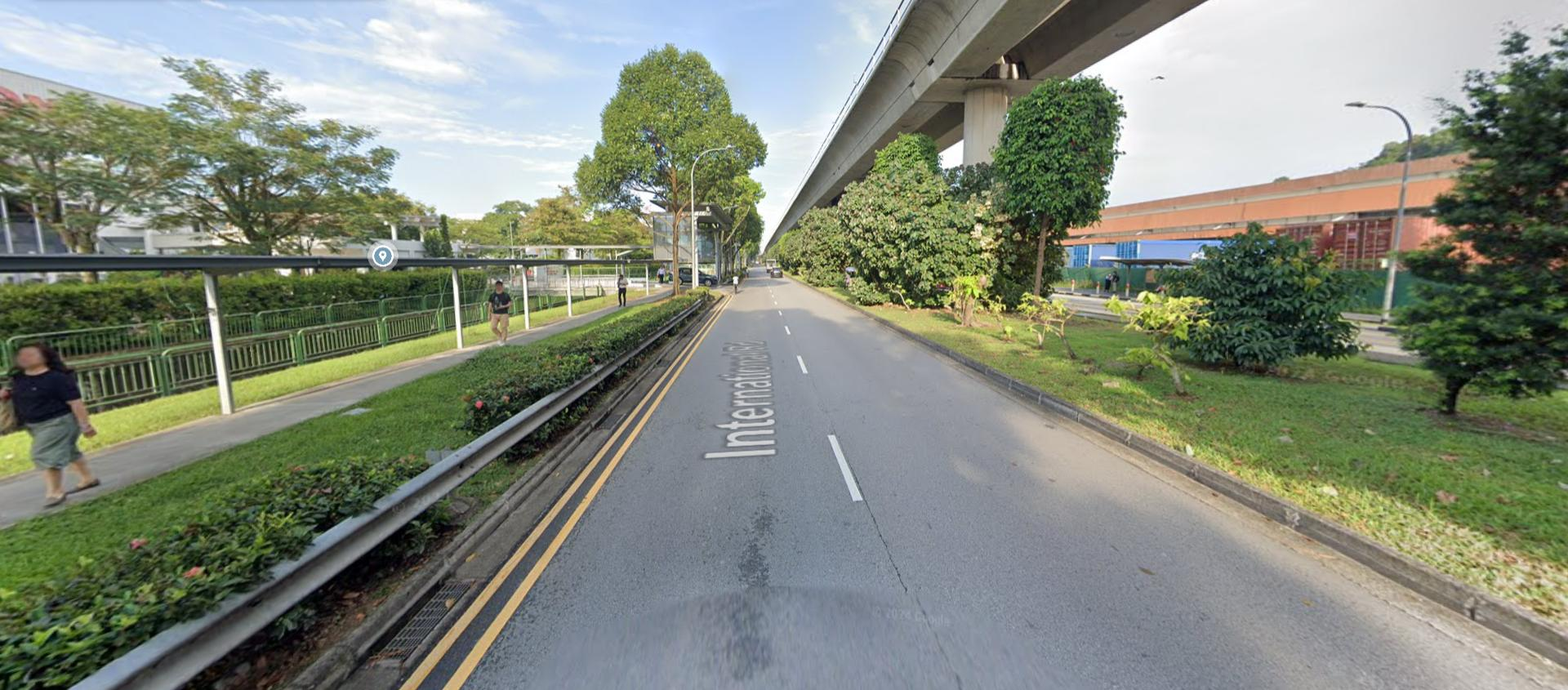defect: (373, 580, 479, 663)
